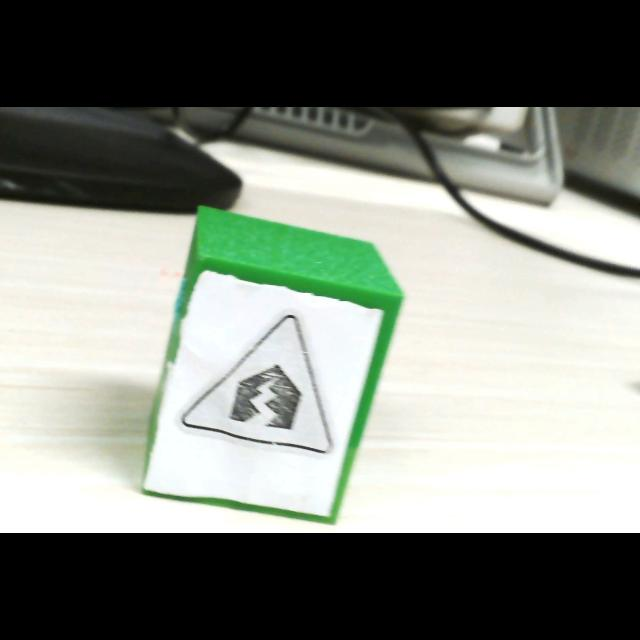Earthquake: (179, 315, 334, 455), (180, 316, 332, 456)
